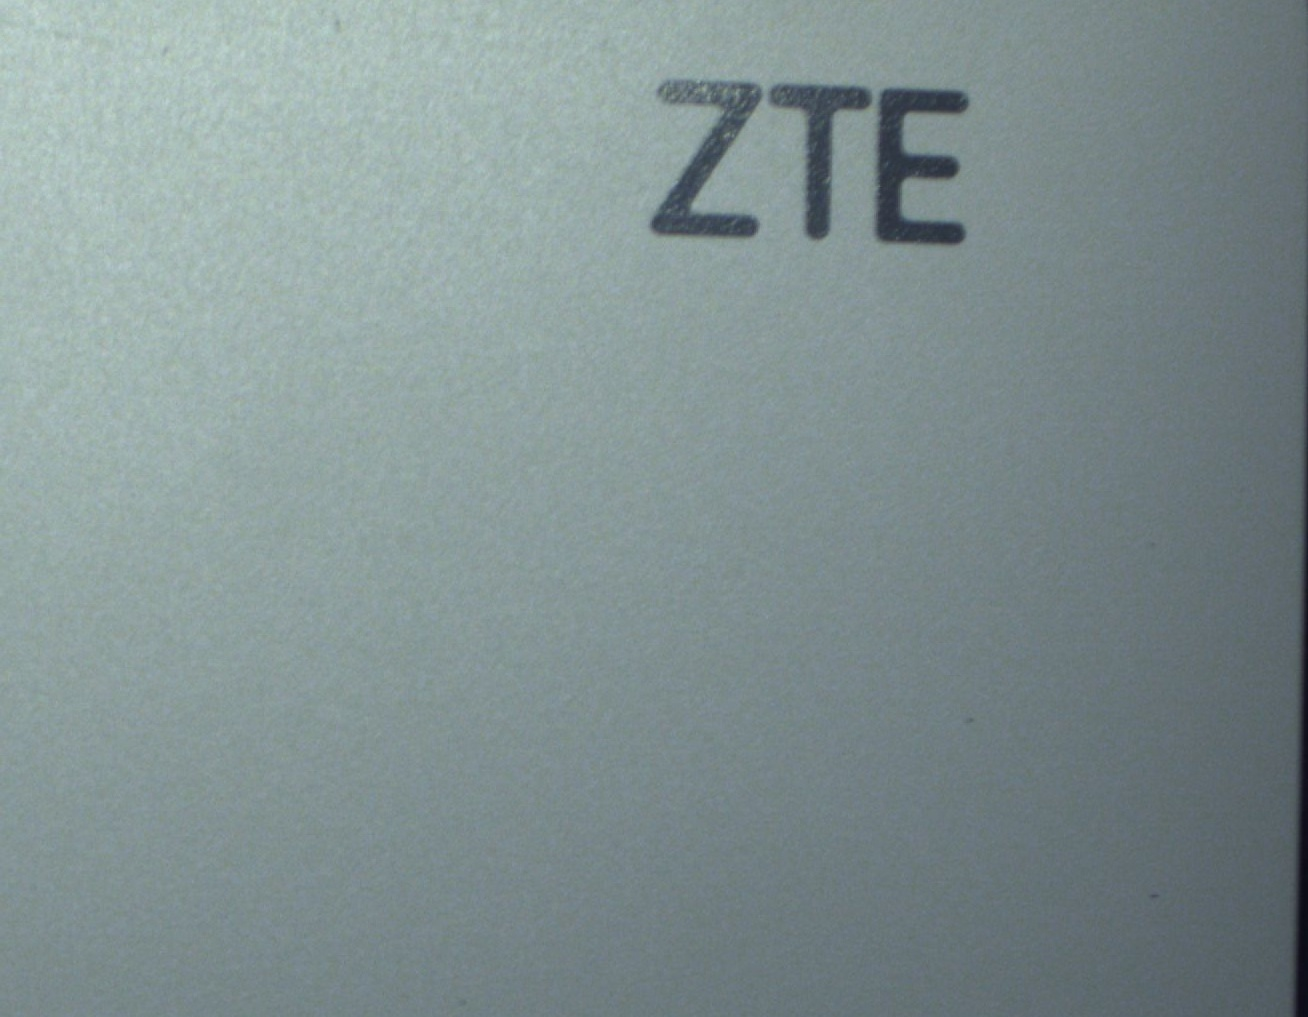AN_ZTE: (599, 73, 1002, 257)
